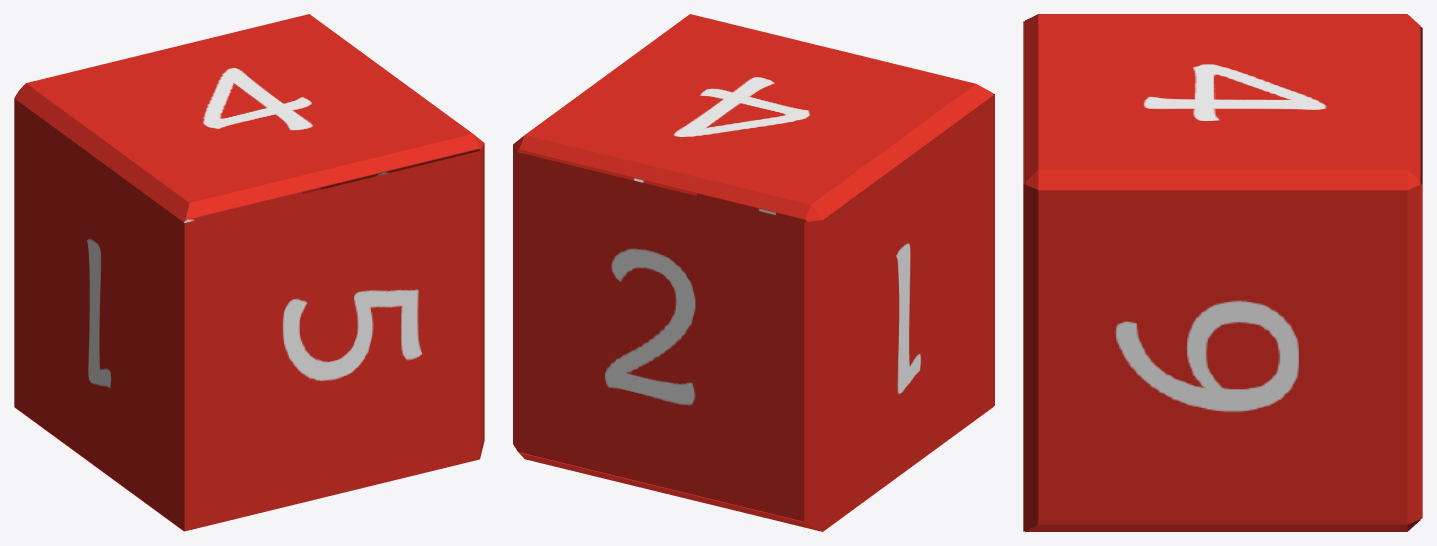
The model's file is red_die.fbx.
3 views of the same model, side by side, from view 1: azimuth 30°, elevation 25°; view 2: azimuth 150°, elevation 25°; view 3: azimuth 270°, elevation 25° (orthographic). The views are drawn at different scales.
Visible parts, largest first — view 1: Cube; view 2: Cube; view 3: Cube.
Boxes of the visible parts, x1=… form: Cube: x1=14, y1=14, x2=484, y2=531; Cube: x1=513, y1=14, x2=994, y2=531; Cube: x1=1023, y1=14, x2=1422, y2=531.
Size of the model in its own units: 200 by 200 by 200.
Materials: 1 (1 with a texture image).
